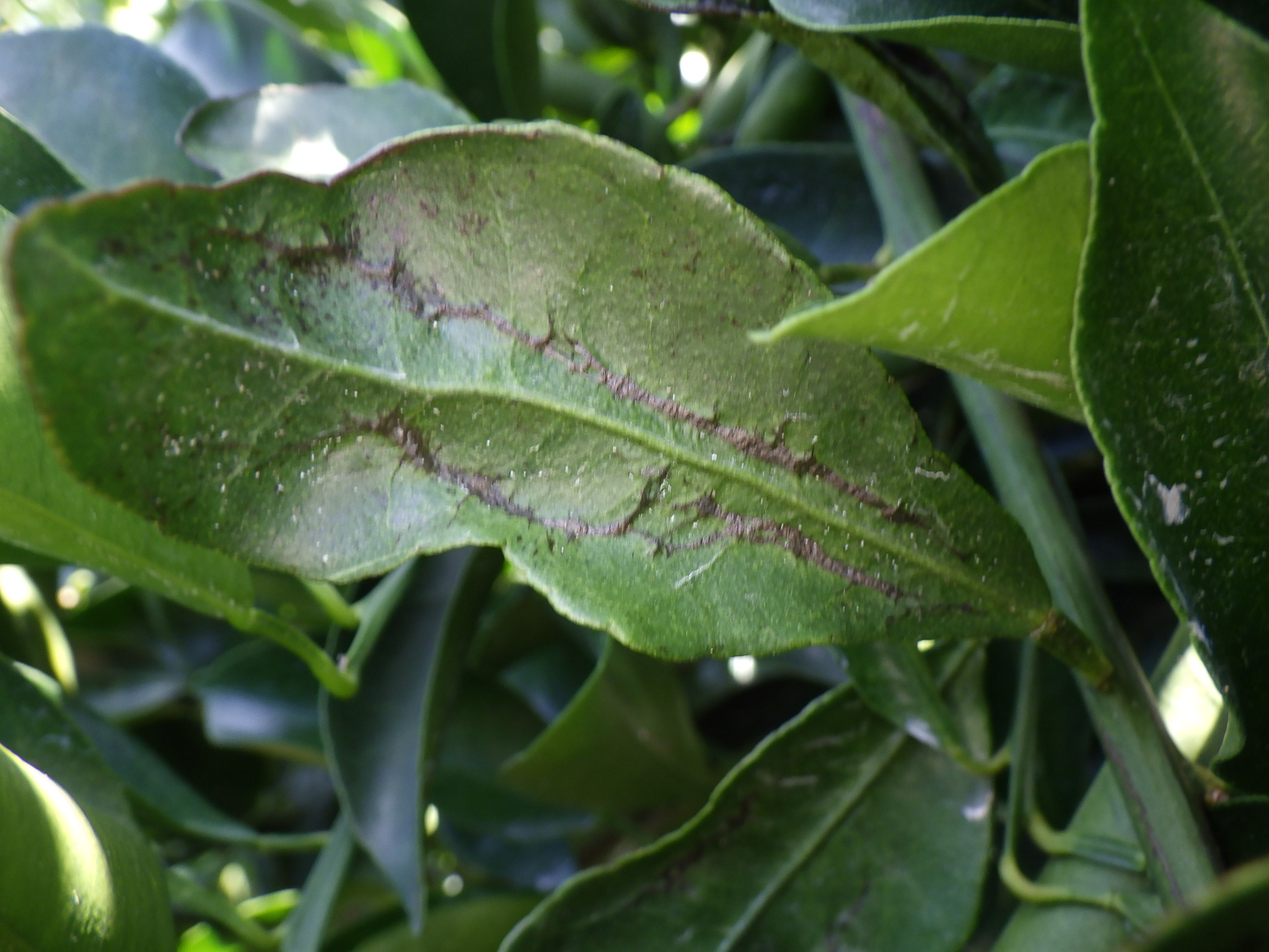Thrips_Damage: (353, 240, 991, 600)
